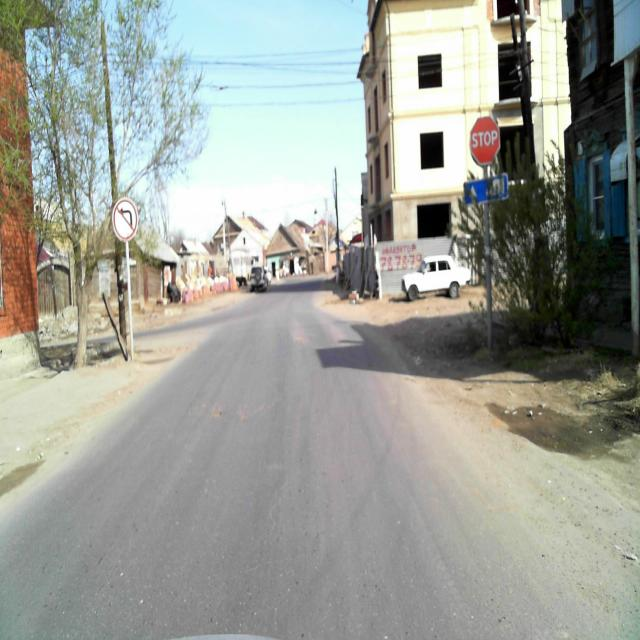road sign: (462, 174, 509, 203)
